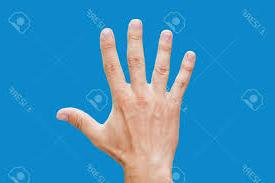Fingers-Spread: (57, 15, 200, 176)
